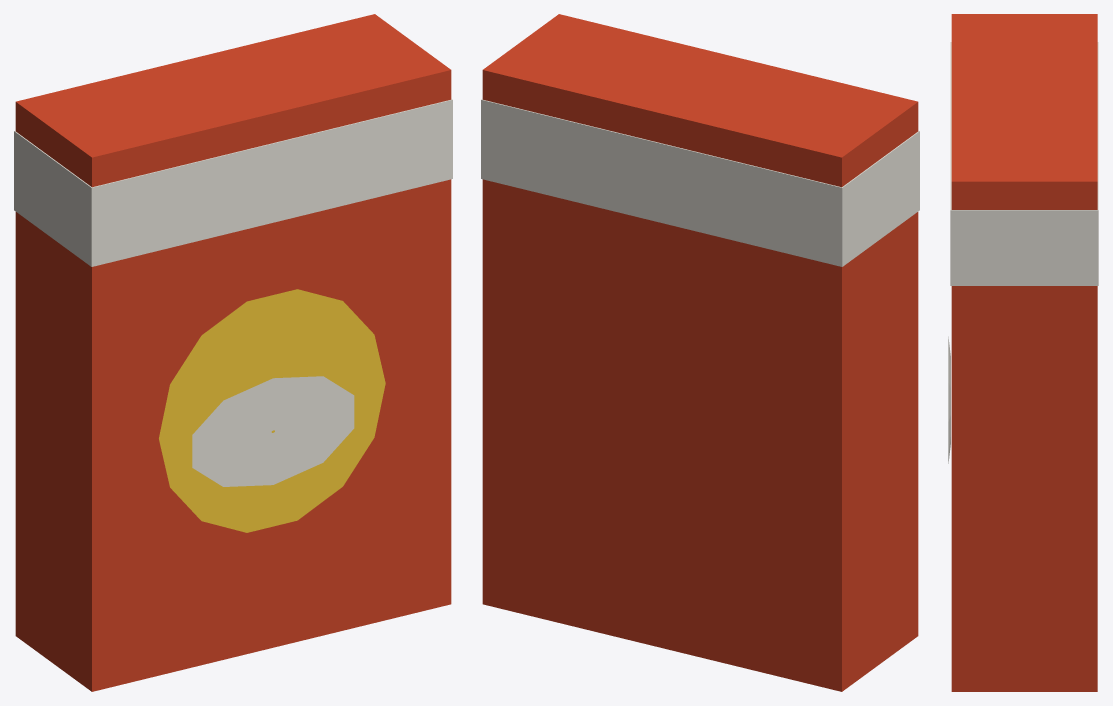
File: g-cereal.glb
The picture shows the model from 3 angles, left to right: view 1: azimuth 30°, elevation 25°; view 2: azimuth 150°, elevation 25°; view 3: azimuth 270°, elevation 25°; orthographic projection. The views are drawn at different scales.
Parts seen in each view (by area): view 1: g_cereal; view 2: g_cereal; view 3: g_cereal.
Boxes of the visible parts, x1,y1,x2,y2 form: g_cereal: (14, 14, 452, 691); g_cereal: (481, 14, 919, 691); g_cereal: (948, 14, 1098, 691).
Bounding box in the file's own units: 0.191 × 0.27 × 0.072.
